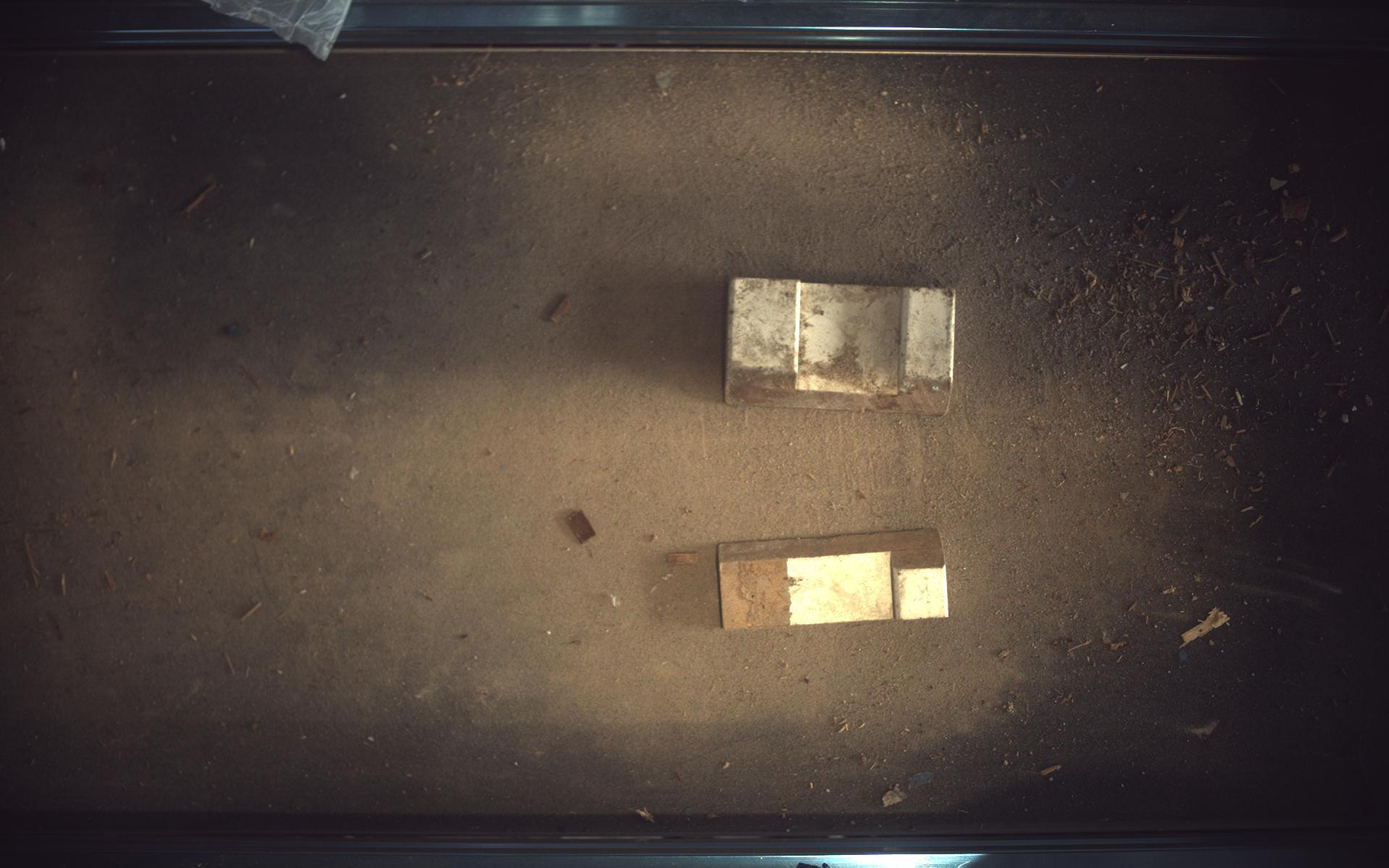wood: (726, 277, 958, 414), (719, 529, 951, 630)
